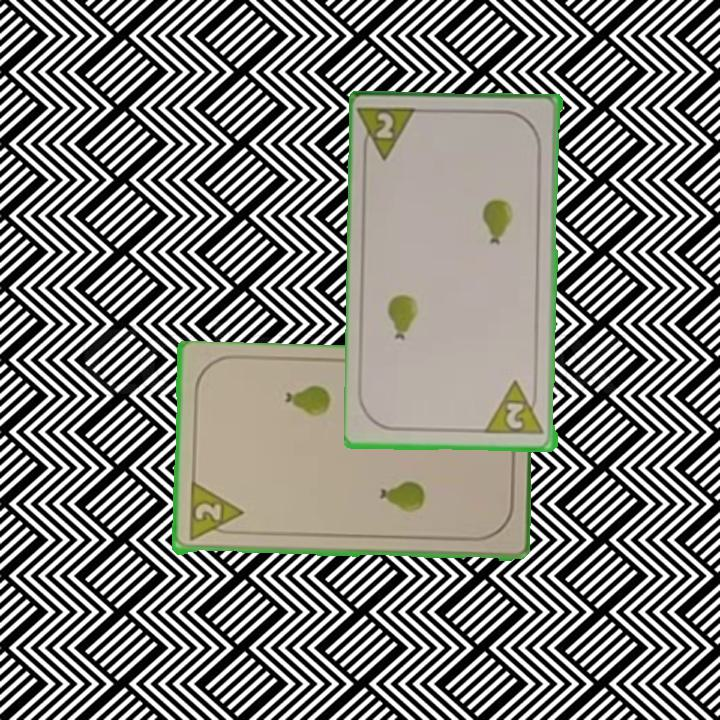2p: (358, 104, 423, 165), (185, 481, 245, 544), (484, 378, 547, 438)
